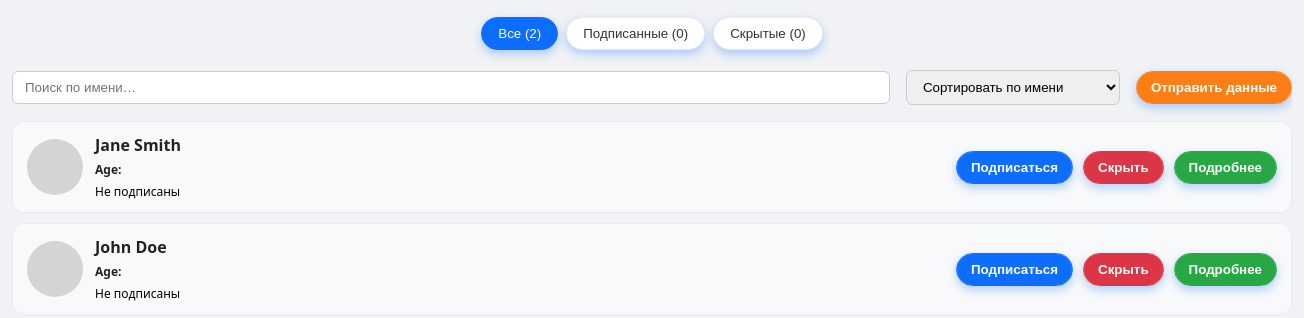
it: UserList › поиск фильтрует пользователей
In the field with placeholder "Поиск по имени…": (451, 88) [12,71,890,104], type "Jane"
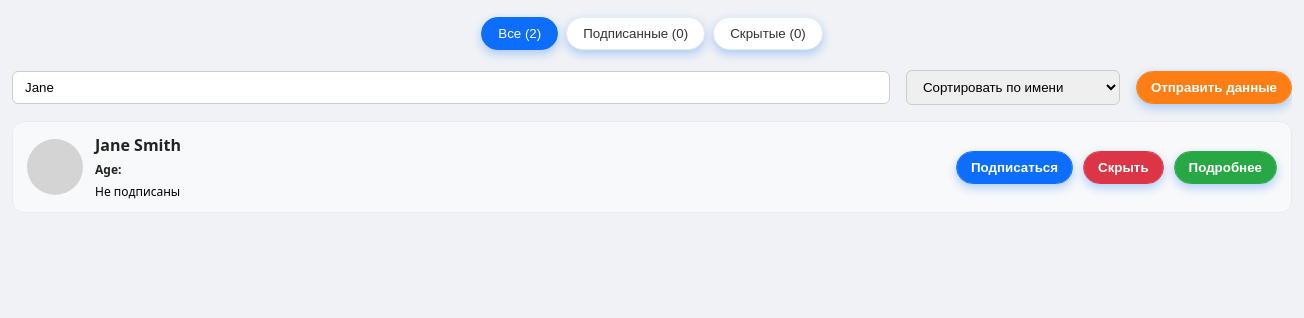
Expected: the text "Jane Smith" is shown, [95,134,181,156]
Expected: the text "John Doe" is gone
